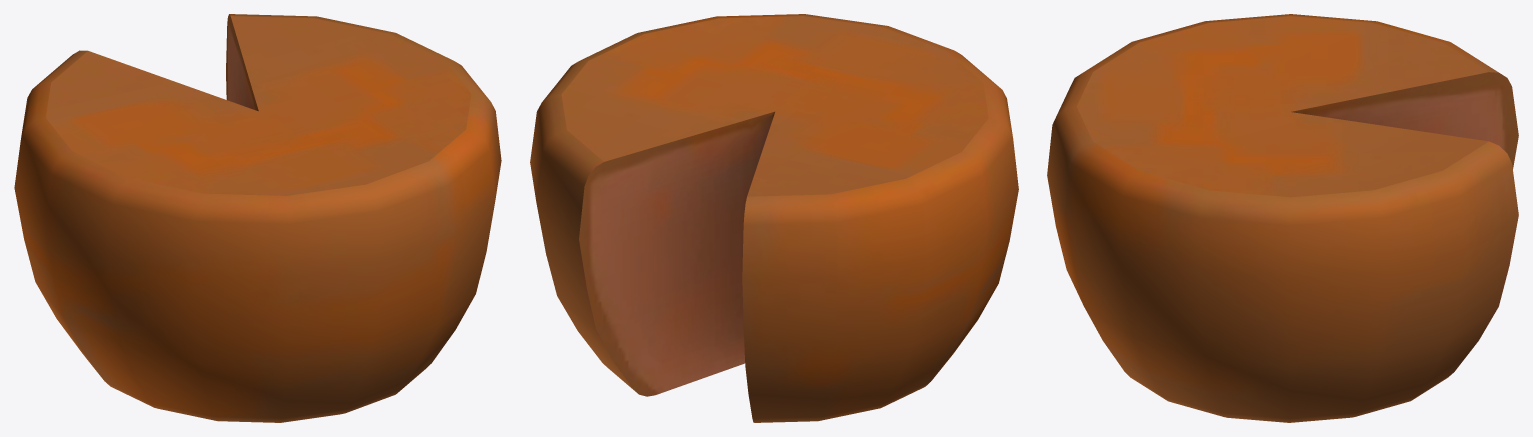
The picture shows the model from 3 angles, left to right: view 1: azimuth 30°, elevation 25°; view 2: azimuth 150°, elevation 25°; view 3: azimuth 270°, elevation 25°; orthographic projection.
Parts seen in each view (by area): view 1: body0_model0_lod0_mesh0; view 2: body0_model0_lod0_mesh0; view 3: body0_model0_lod0_mesh0.
Part boxes in pixels (<box>): body0_model0_lod0_mesh0: <box>14,14,501,422</box>; body0_model0_lod0_mesh0: <box>530,14,1018,422</box>; body0_model0_lod0_mesh0: <box>1047,14,1518,422</box>.
Bounding box in the file's own units: 39.08 × 21.92 × 37.59.
1 material, 1 textured.
